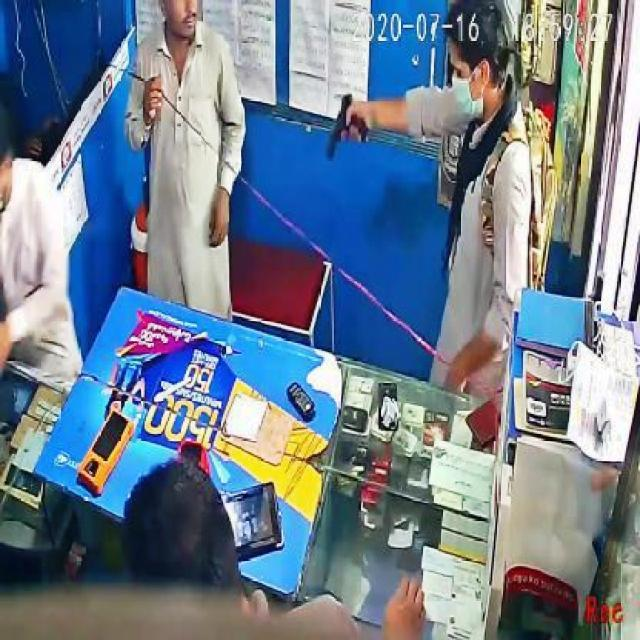Gun: (318, 81, 371, 164)
